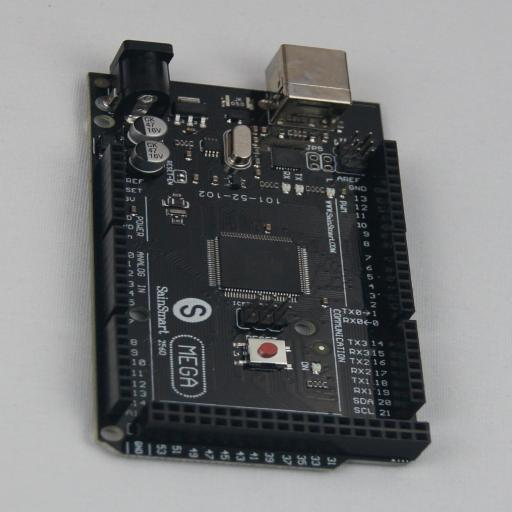Arduino Mega 2560 -Black-: (88, 40, 431, 472)
